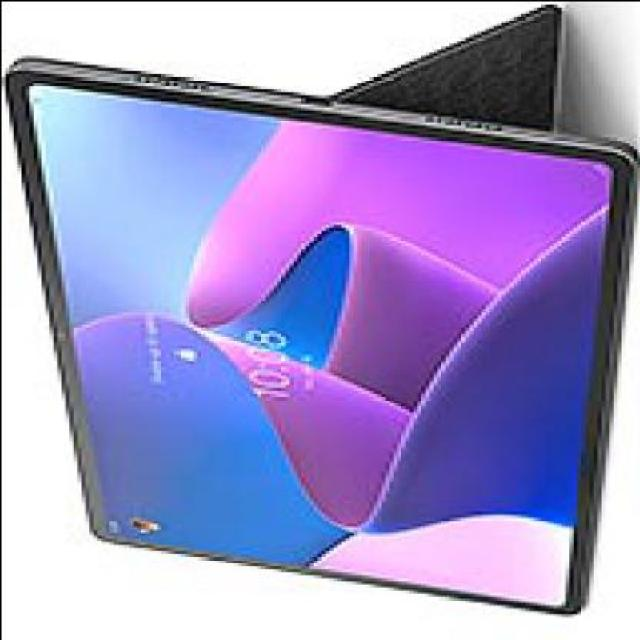tablet: (3, 14, 614, 528)
